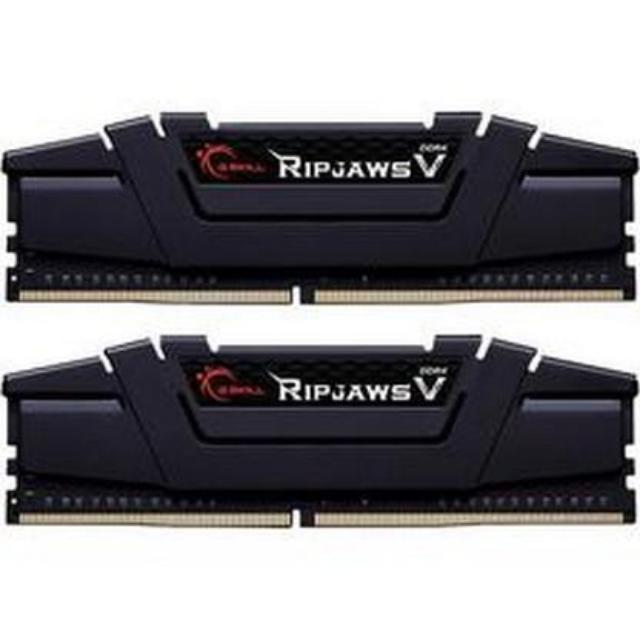RAM: (0, 102, 640, 316), (0, 328, 640, 538)
